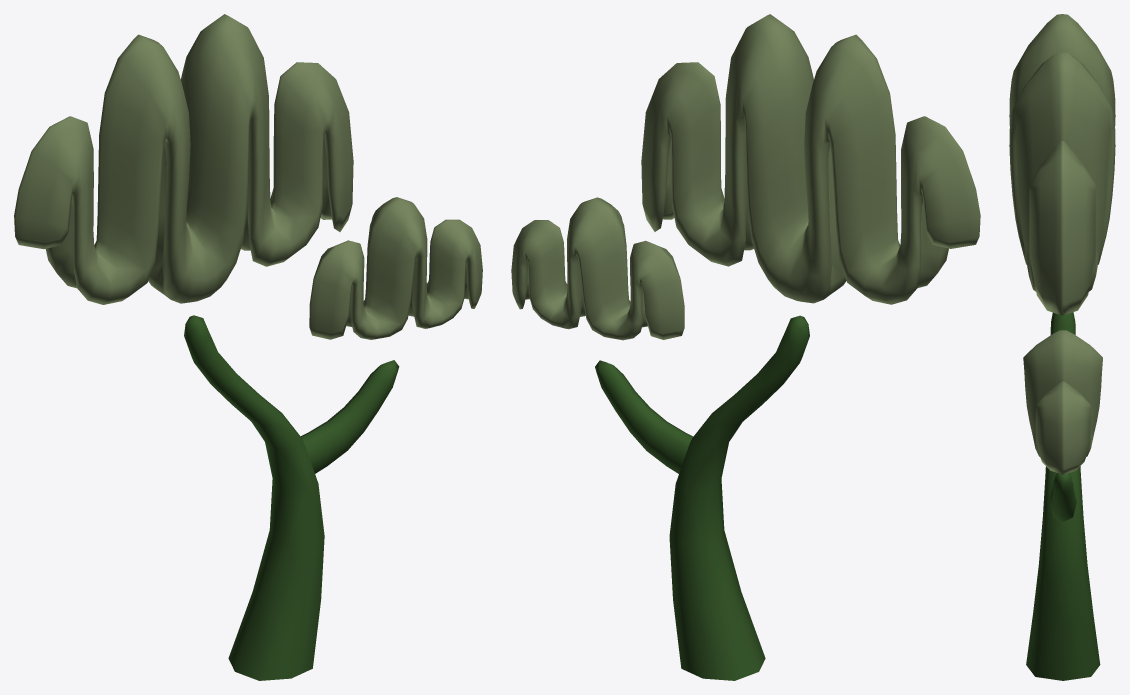
File: quaternius-ultimate-space-tree-floating-3-transformed.glb
The picture shows the model from 3 angles, left to right: view 1: azimuth 30°, elevation 25°; view 2: azimuth 150°, elevation 25°; view 3: azimuth 270°, elevation 25°; orthographic projection. The views are drawn at different scales.
Parts seen in each view (by area): view 1: Tree_Floating_3; view 2: Tree_Floating_3; view 3: Tree_Floating_3.
Boxes of the visible parts, <box> form: Tree_Floating_3: <box>14,14,482,680</box>; Tree_Floating_3: <box>511,14,980,680</box>; Tree_Floating_3: <box>1009,14,1115,680</box>.
Bounding box in the file's own units: 3.87 × 5.21 × 0.8429.
Materials: 1 (1 with a texture image).
